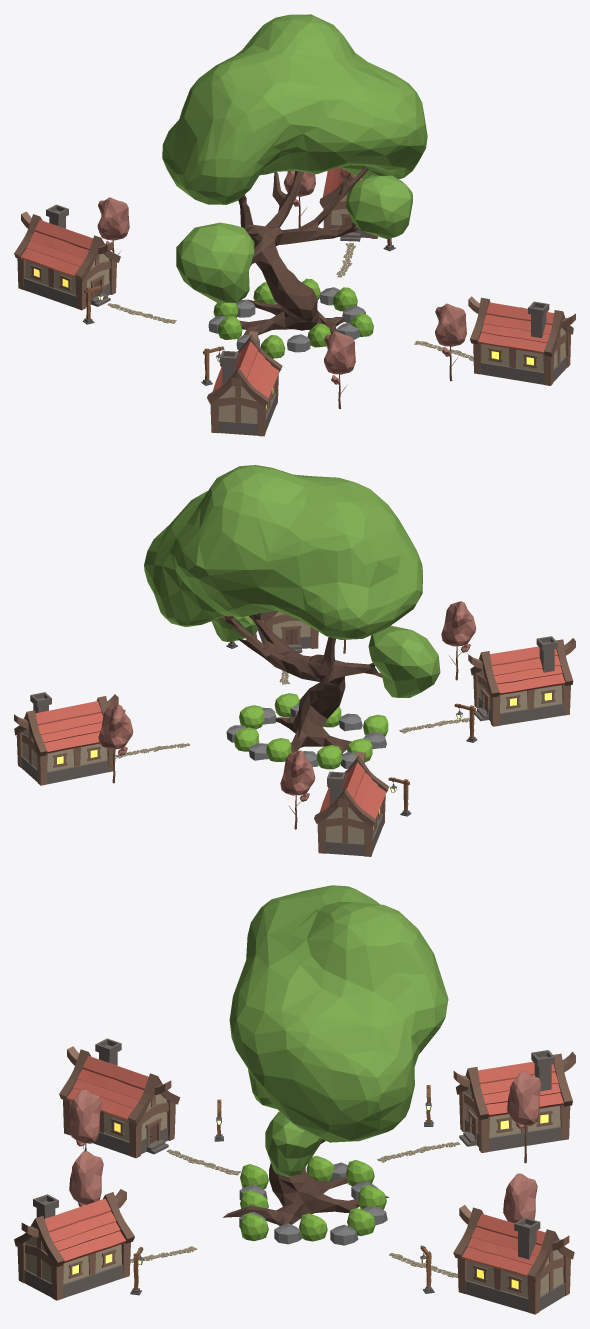
The model's file is village.glb.
3 views of the same model, one above another, from view 1: azimuth 30°, elevation 25°; view 2: azimuth 150°, elevation 25°; view 3: azimuth 270°, elevation 25° (orthographic). The views are drawn at different scales.
Parts seen in each view (by area): view 1: Tree5_2, House.003, House.001, House.004, House.002, Tree3_1.003, Tree3_1.004, Tree3_1.002, Tree3_1; view 2: Tree5_2, House.004, House.002, House.001, House.003, Tree3_1.002, Tree3_1, Tree3_1.003, Bush1_2, Bush1_2.005, Bush1_2.001; view 3: Tree5_2, House.003, House.002, House.004, House.001, Tree3_1.002, Tree3_1.003, Tree3_1.004, Tree3_1, Bush1_2.004, Bush1_2.005, Bush1_2.006 (+4 smaller).
Boxes of the visible parts, x1=… form: Tree5_2: x1=162, y1=14, x2=427, y2=335; House.003: x1=468, y1=296, x2=575, y2=385; House.001: x1=14, y1=204, x2=120, y2=310; House.004: x1=207, y1=331, x2=282, y2=436; House.002: x1=319, y1=167, x2=377, y2=241; Tree3_1.003: x1=324, y1=331, x2=355, y2=408; Tree3_1.004: x1=435, y1=303, x2=466, y2=381; Tree3_1.002: x1=97, y1=197, x2=129, y2=254; Tree3_1: x1=284, y1=171, x2=315, y2=227; Tree5_2: x1=144, y1=465, x2=440, y2=754; House.004: x1=468, y1=636, x2=575, y2=726; House.002: x1=14, y1=692, x2=118, y2=785; House.001: x1=314, y1=752, x2=389, y2=856; House.003: x1=258, y1=611, x2=318, y2=652; Tree3_1.002: x1=280, y1=750, x2=315, y2=829; Tree3_1: x1=98, y1=704, x2=133, y2=783; Tree3_1.003: x1=441, y1=601, x2=476, y2=680; Bush1_2: x1=316, y1=745, x2=341, y2=769; Bush1_2.005: x1=239, y1=705, x2=264, y2=728; Bush1_2.001: x1=266, y1=738, x2=291, y2=761; Tree5_2: x1=223, y1=885, x2=448, y2=1225; House.003: x1=14, y1=1189, x2=134, y2=1300; House.002: x1=453, y1=1205, x2=574, y2=1314; House.004: x1=59, y1=1038, x2=180, y2=1158; House.001: x1=453, y1=1050, x2=575, y2=1152; Tree3_1.002: x1=507, y1=1071, x2=541, y2=1163; Tree3_1.003: x1=67, y1=1089, x2=101, y2=1151; Tree3_1.004: x1=69, y1=1151, x2=103, y2=1206; Tree3_1: x1=503, y1=1173, x2=537, y2=1223; Bush1_2.004: x1=240, y1=1213, x2=268, y2=1241; Bush1_2.005: x1=299, y1=1213, x2=327, y2=1241; Bush1_2.006: x1=347, y1=1208, x2=375, y2=1235.
Size of the model in its own units: 67.16 by 48.96 by 77.56.
